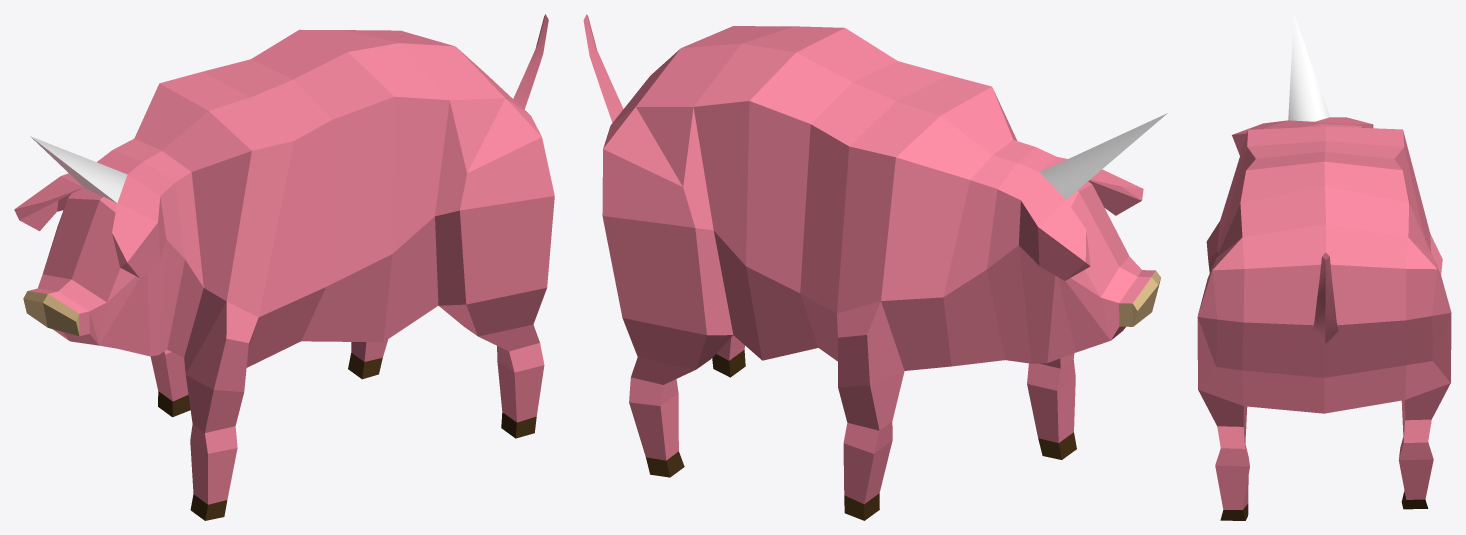
File: pigRunning5.obj
The picture shows the model from 3 angles, left to right: view 1: azimuth 30°, elevation 25°; view 2: azimuth 150°, elevation 25°; view 3: azimuth 270°, elevation 25°; orthographic projection. The views are drawn at different scales.
Parts seen in each view (by area): view 1: Pig_Cylinder.002_Pig_Cylinder.003; view 2: Pig_Cylinder.002_Pig_Cylinder.003; view 3: Pig_Cylinder.002_Pig_Cylinder.003.
Part boxes in pixels (bbox=[...]): Pig_Cylinder.002_Pig_Cylinder.003: bbox=[14, 14, 554, 520]; Pig_Cylinder.002_Pig_Cylinder.003: bbox=[583, 14, 1167, 520]; Pig_Cylinder.002_Pig_Cylinder.003: bbox=[1197, 15, 1451, 520].
Size of the model in its own units: 22.74 by 15.71 by 11.11.
